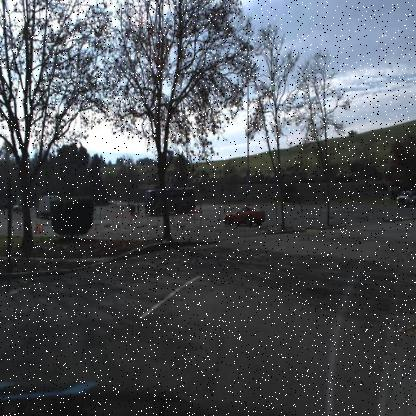car: (223, 205, 268, 228), (396, 189, 415, 210)
truck: (143, 182, 198, 218)
